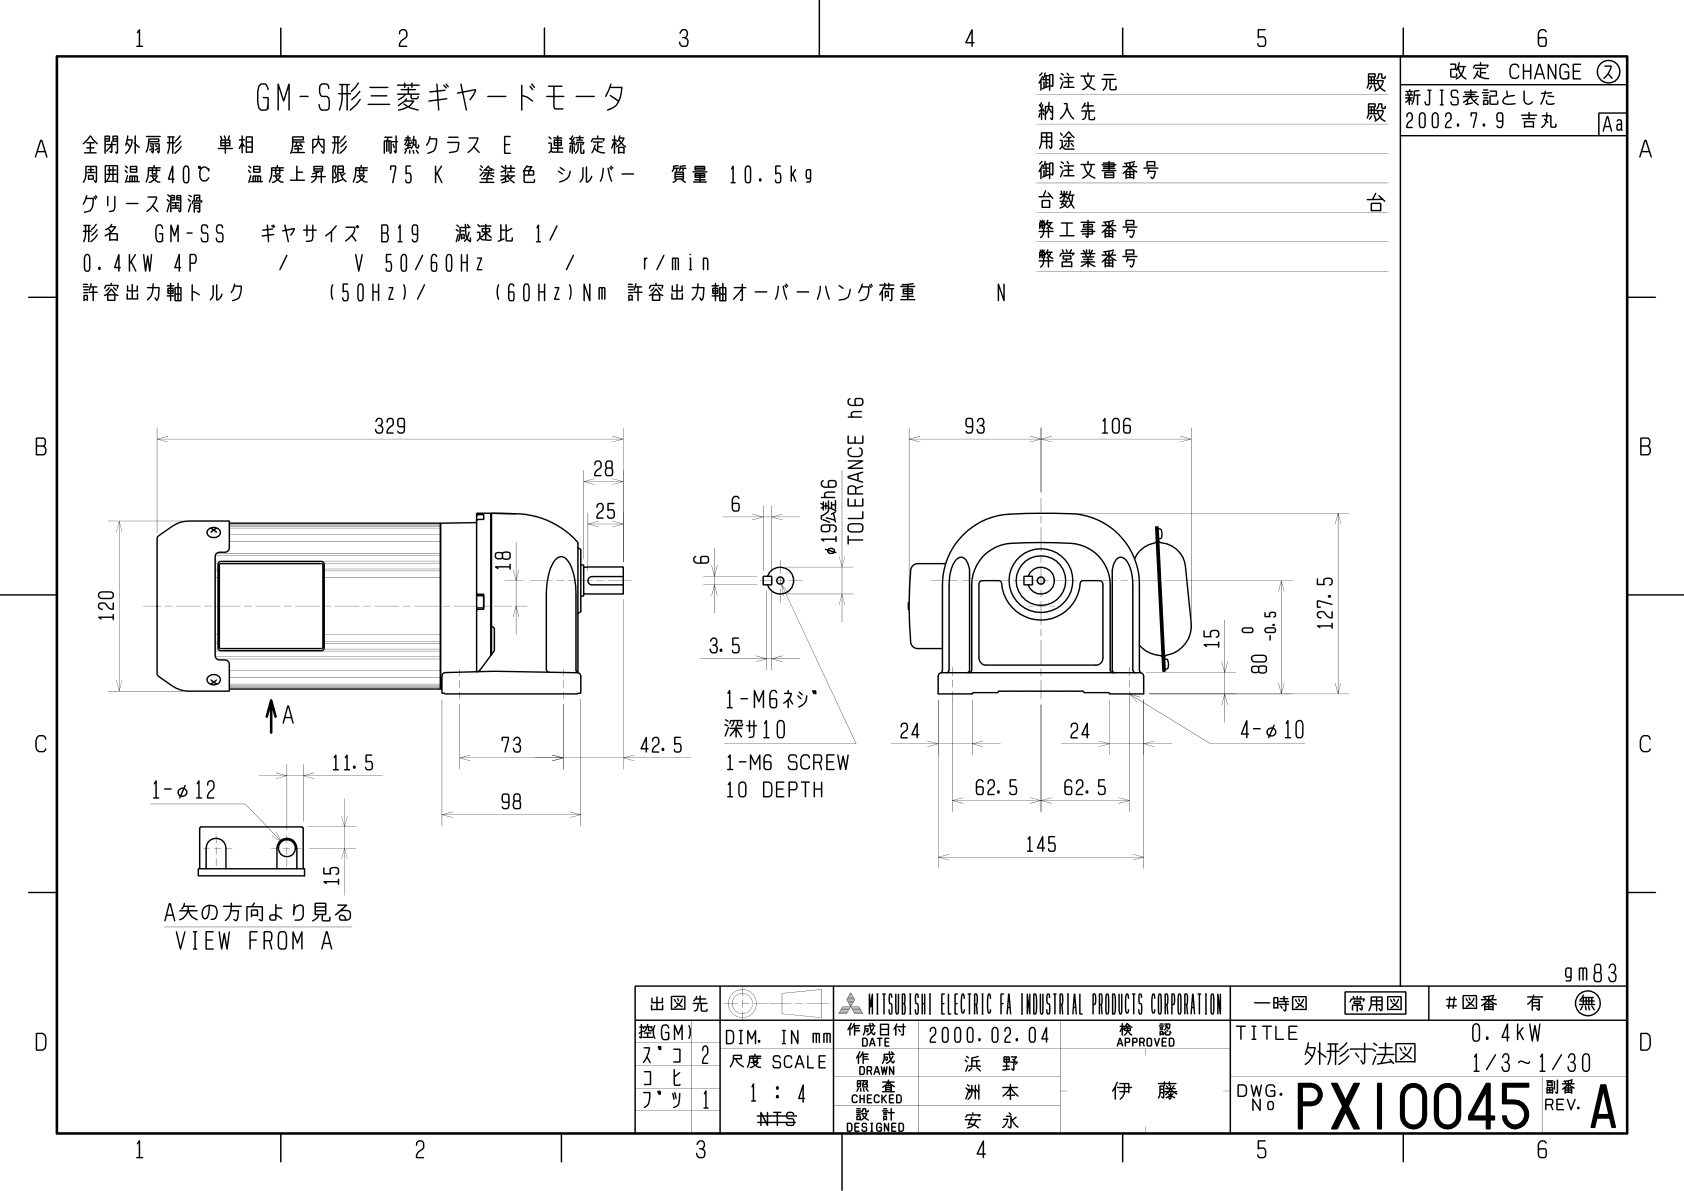GM_S_屋内＿三相_脚: (77, 339, 1381, 978)
